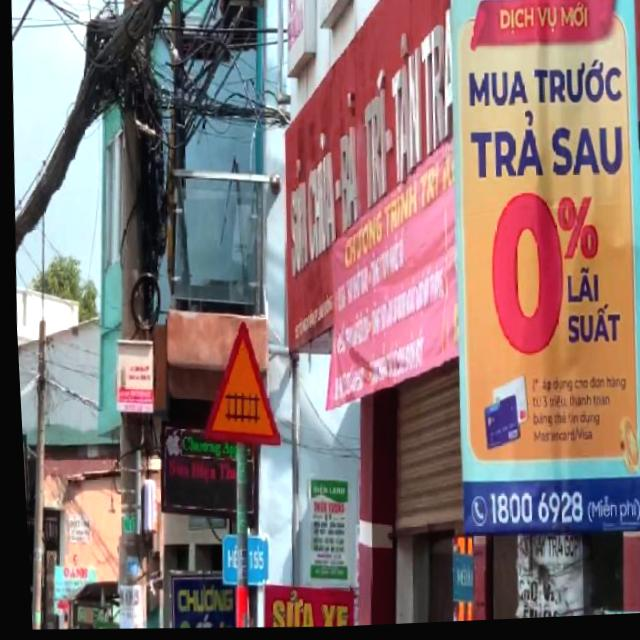Giao nhau voi duong sat co rao chan: (186, 305, 287, 465)
